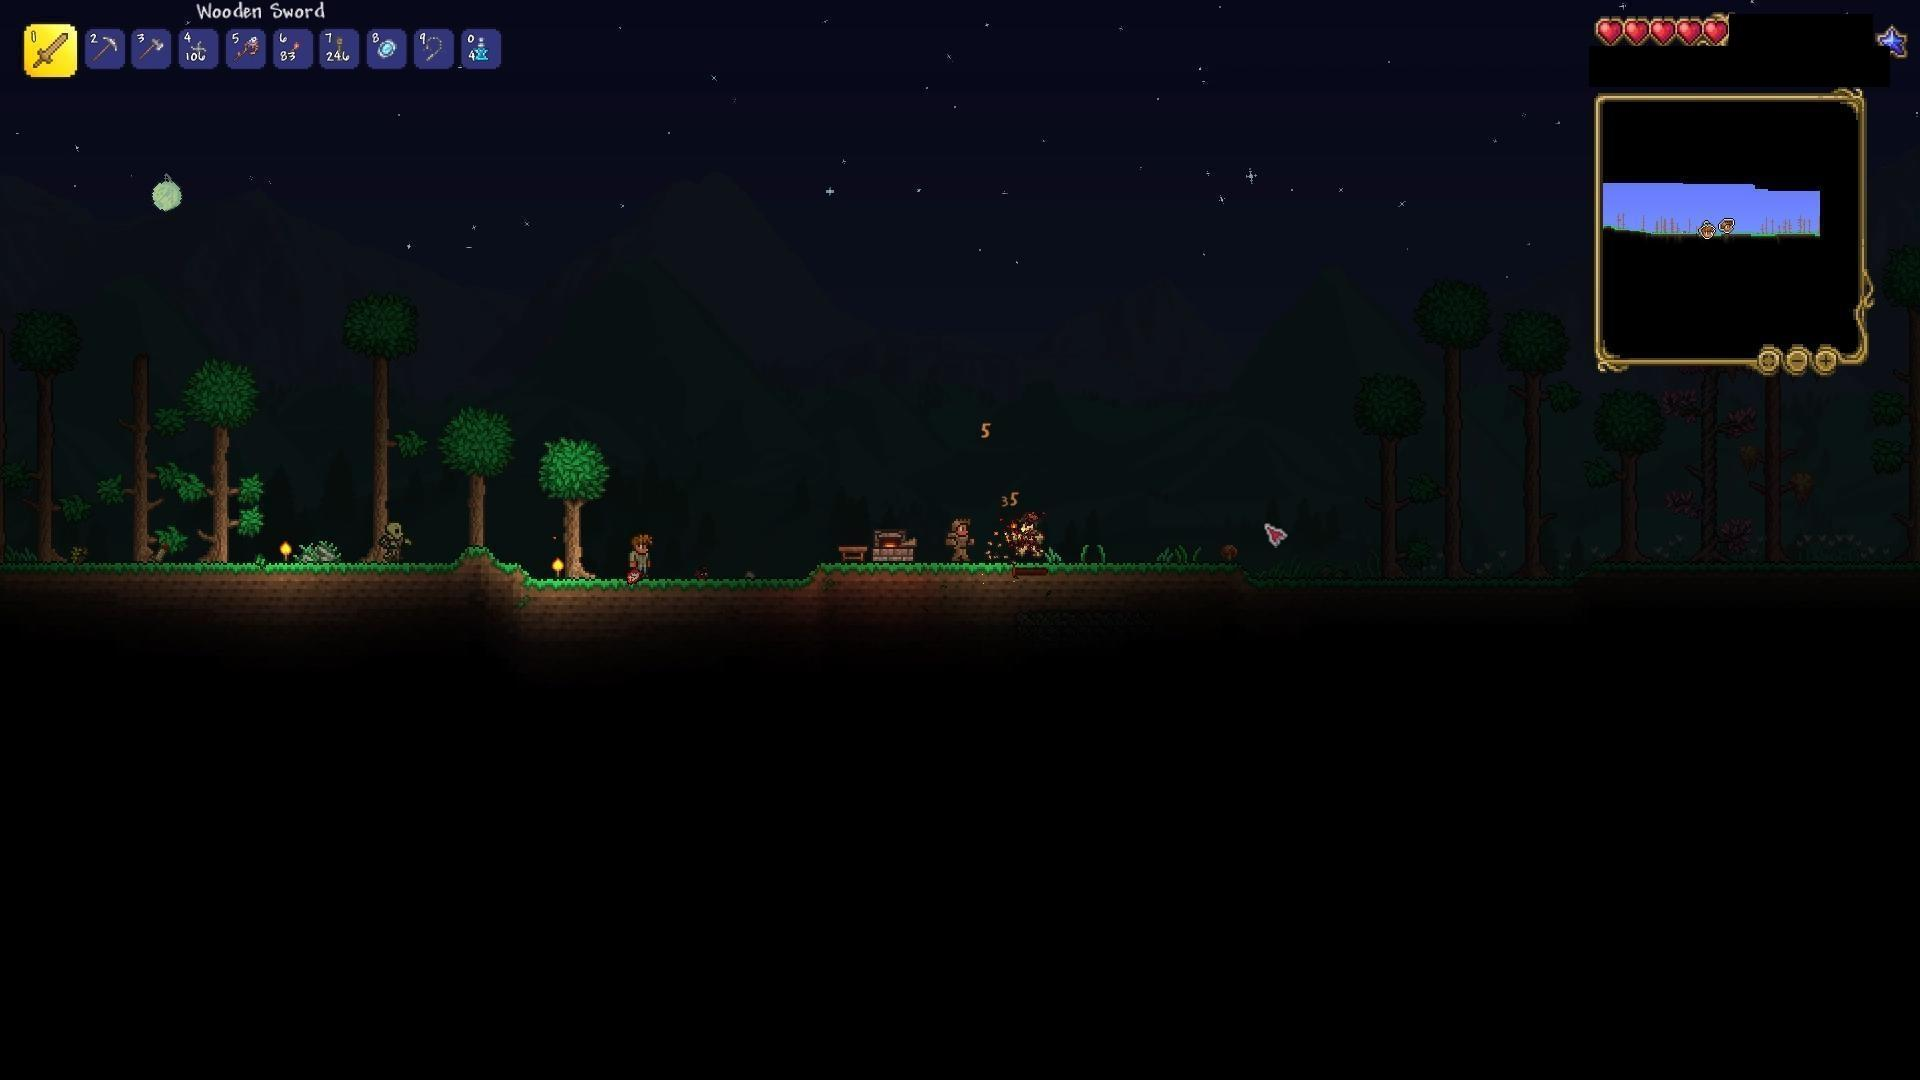dirt: (4, 541, 450, 585), (803, 559, 1241, 597), (529, 571, 802, 603), (455, 539, 527, 585)
heart: (1702, 17, 1733, 51), (1593, 16, 1626, 46), (1676, 15, 1704, 50), (1650, 16, 1676, 49), (1625, 15, 1651, 44)
tree: (178, 348, 247, 579), (541, 433, 603, 575), (448, 398, 495, 562)
